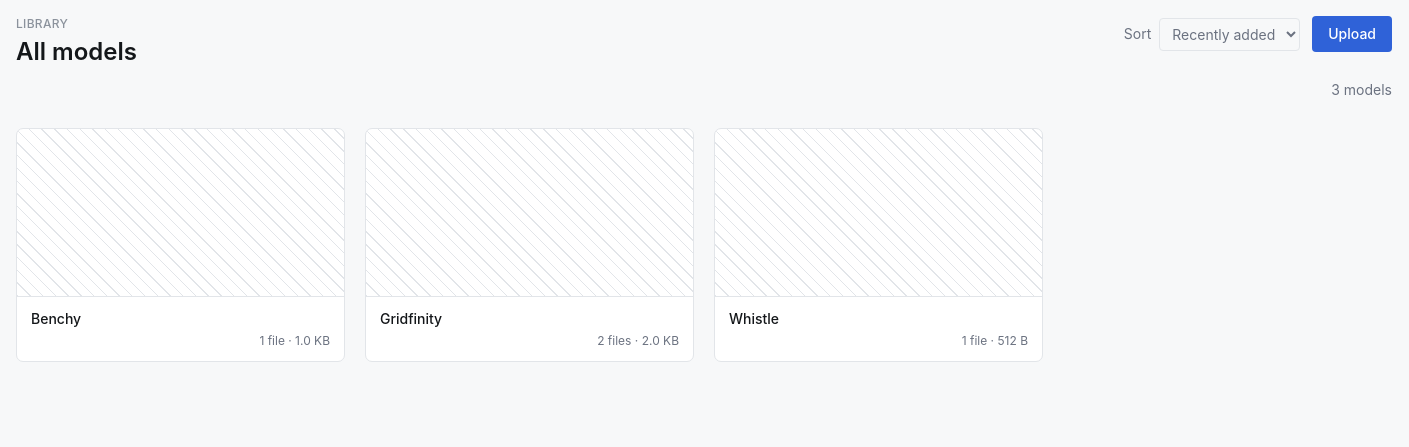
Test: library page bulk actions › has no bulk bar until something is selected
This screenshot has width=1409, height=447.
expect the heading "Benchy" is shown: met, box [31,310,81,327]
expect the button "Add tags" is not shown: met
Click the link "Benchy 1 file · 1.0 KB" at {"x": 180, "y": 245}, box [16,128,345,362]
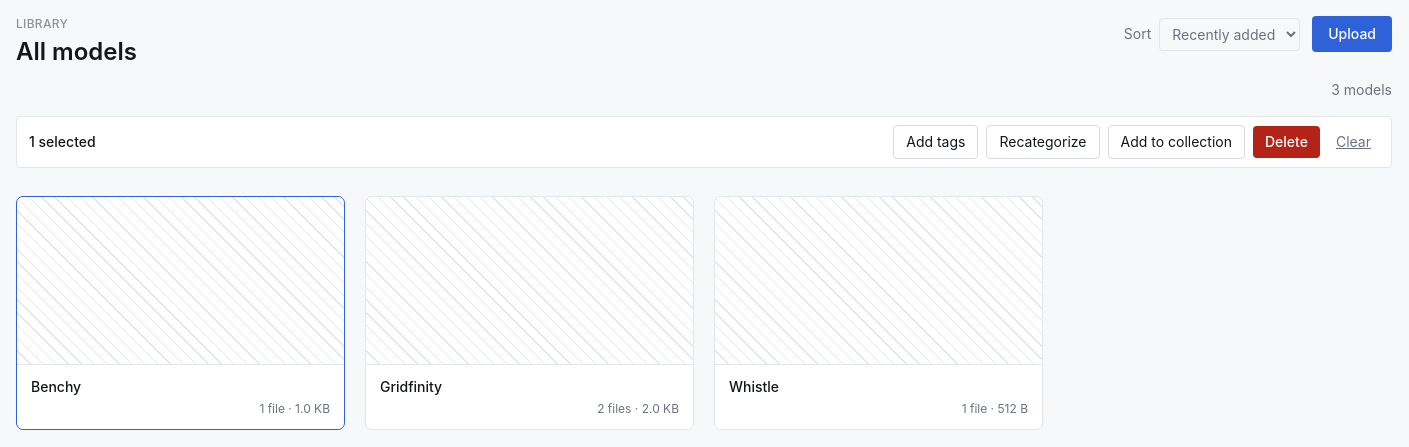
expect the text "1 selected" is shown: met, box [29,132,96,152]
